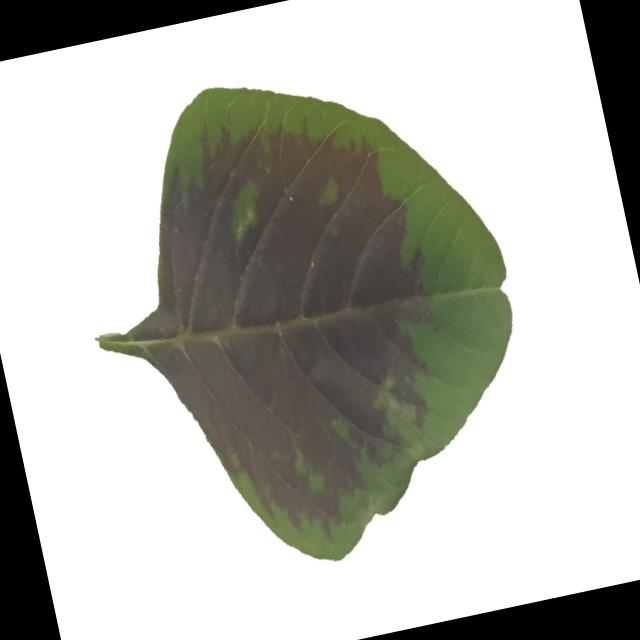Medicinal-Arive Dantu: (51, 32, 558, 596)
